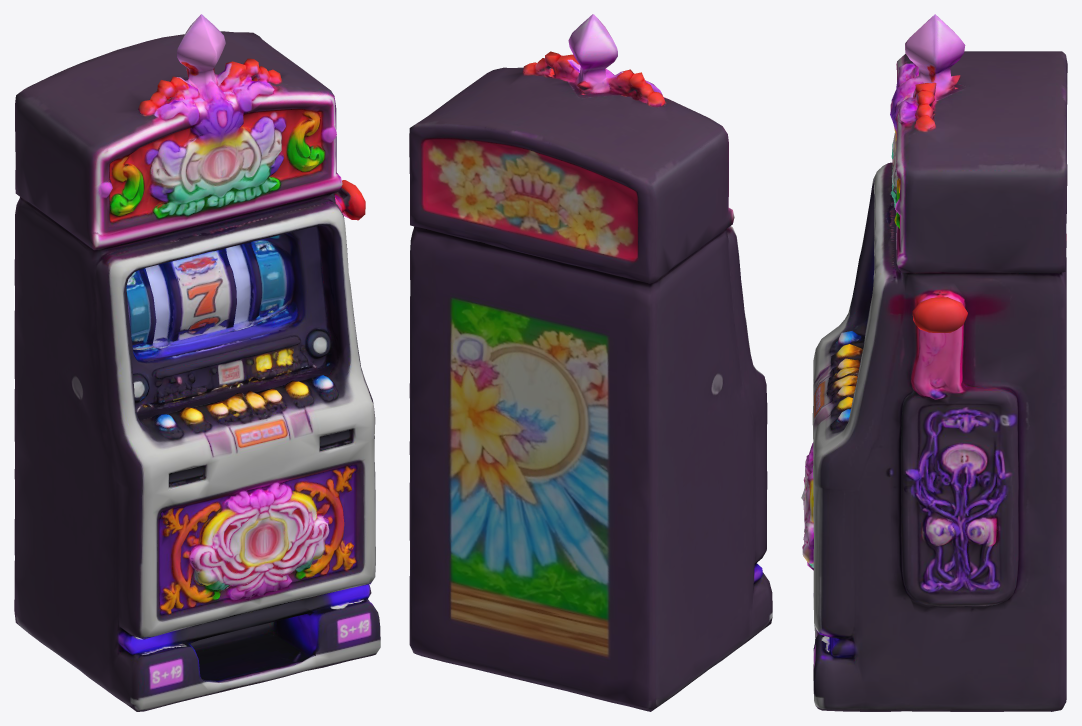
File: Updated Actual Slot 1.glb
3 views of the same model, side by side, from view 1: azimuth 30°, elevation 25°; view 2: azimuth 150°, elevation 25°; view 3: azimuth 270°, elevation 25° (orthographic). The views are drawn at different scales.
Visible parts, largest first — view 1: Mesh1.0; view 2: Mesh1.0; view 3: Mesh1.0.
Part boxes in pixels (x1,y1,x2,y2): Mesh1.0: (14, 14, 380, 711); Mesh1.0: (409, 14, 772, 711); Mesh1.0: (801, 14, 1067, 711).
Bounding box in the file's own units: 0.8987 × 1.91 × 0.7177.
Materials: 1 (1 with a texture image).
